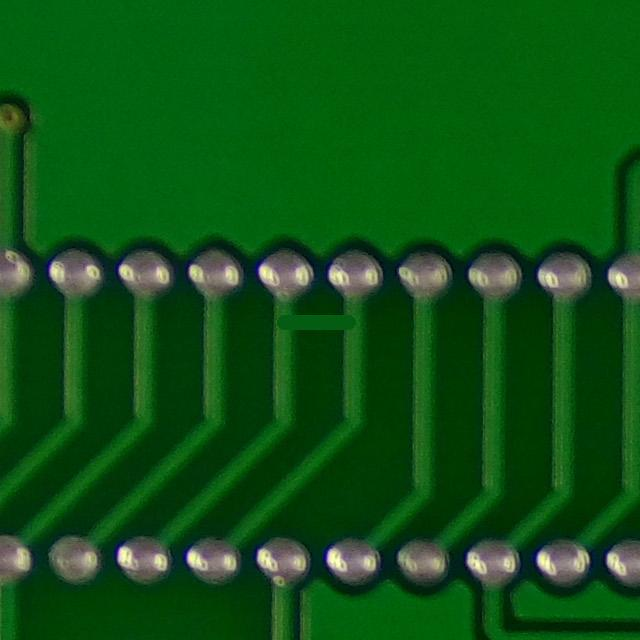short: (264, 292, 376, 349)
